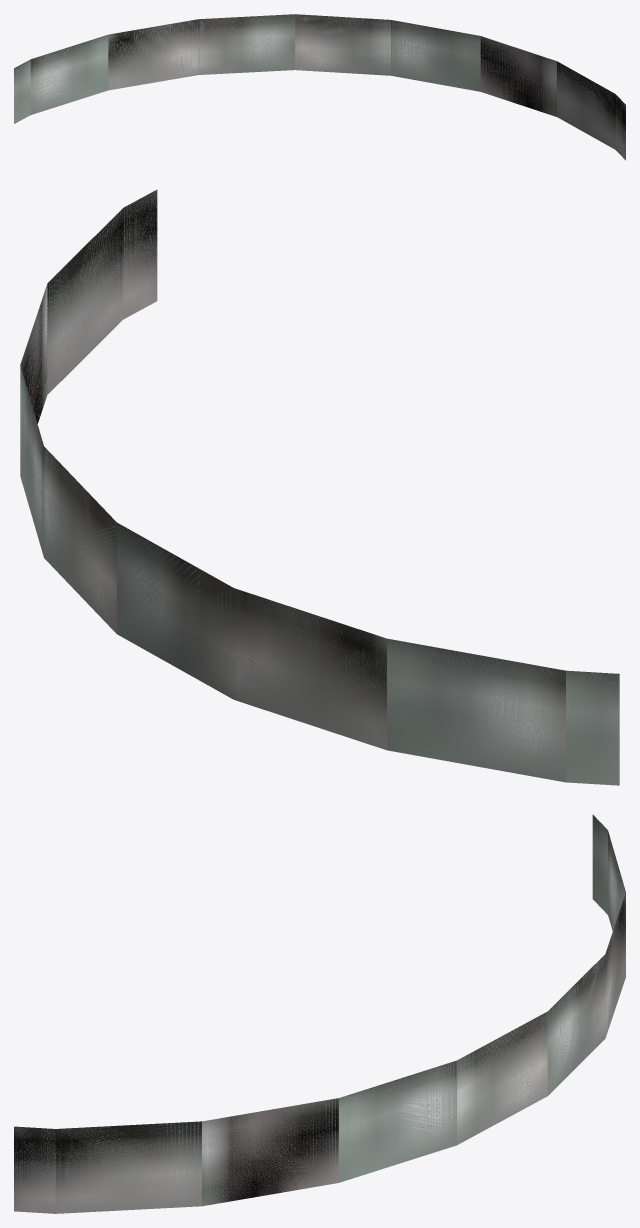
Rendered from 西庸城堡234.dae.
3 renders of one model, top to bottom at view 1: azimuth 30°, elevation 25°; view 2: azimuth 150°, elevation 25°; view 3: azimuth 270°, elevation 25°, orthographic. The views are drawn at different scales.
Visible parts, largest first — view 1: SketchUp; view 2: SketchUp; view 3: SketchUp.
Boxes of the visible parts, x1,y1,x2,y2 form: SketchUp: (14,14,625,160); SketchUp: (20,189,619,785); SketchUp: (14,814,625,1213).
Bounding box in the file's own units: 50.09 × 41.14 × 6.3.
